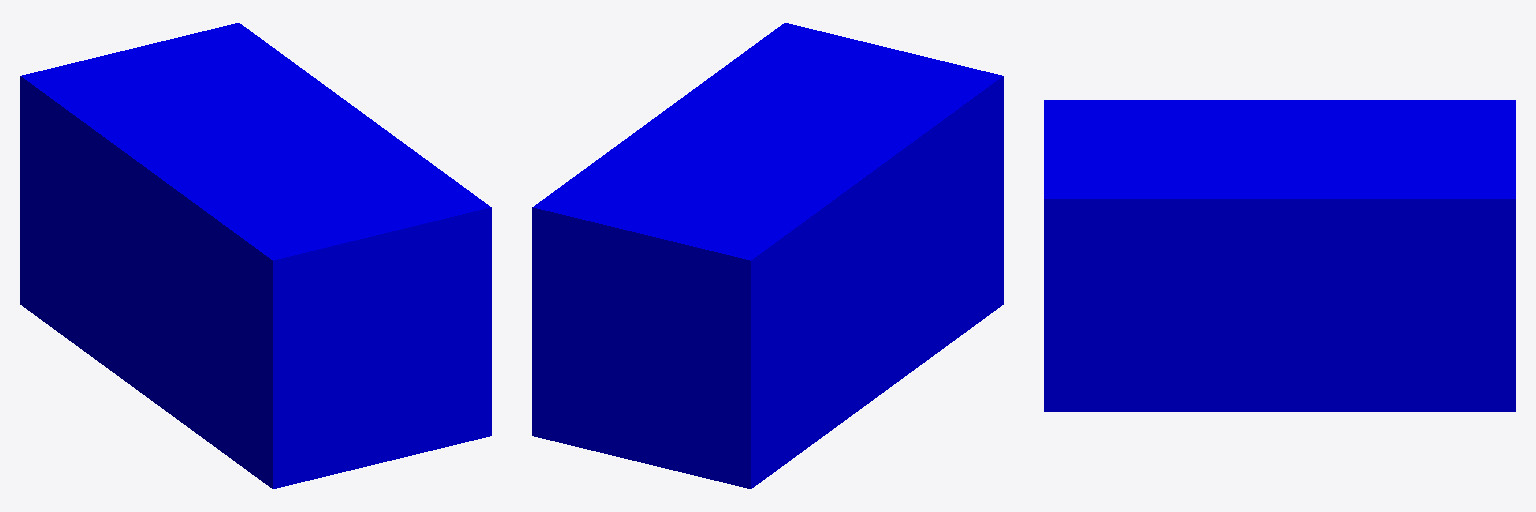
URDF robot description (box):
<?xml version="1.0"?>

<robot name="box">

  <link name="base_link">
  </link>

  <link name="moving_box_link">

    <inertial>
      <origin xyz="0 0 0"/>
      <mass value="1" />
      <inertia ixx="1"  ixy="0"  ixz="0" iyy="1" iyz="0" izz="1" />
    </inertial>

    <visual>
      <origin xyz="0 0 0" />
      <geometry>
        <box size="0.1 0.2 0.1" />
      </geometry>
      <material>
        <color rgba="0 0 1 1" />
      </material>
    </visual>

    <collision>
      <origin xyz="0 0 0" />
      <geometry>
        <box size="0.1 0.2 0.1" />
      </geometry>
    </collision>
  </link>

  <!--
    It seems like Drake doesn't support a standard floating base,
    so we need to emulate the floating base for each body using two
    prismatic joints and one continuous revolute joint, as mentioned
    in Issue #3089 on Drake's GitHub.

    To support these various joints, we need dummy massless bodies to
    serve as intermediates
   -->
  <link name="dummy_1"></link>
  <link name="dummy_2"></link>
  <link name="dummy_3"></link>
  <link name="dummy_4"></link>
  <link name="dummy_5"></link>

  <joint name="x" type="prismatic">
    <parent link="base_link" />
    <child link="dummy_1" />
    <origin xyz="0 0 0" />
    <axis xyz="1 0 0" />
  </joint>
  <joint name="y" type="prismatic">
    <parent link="dummy_1" />
    <child link="dummy_2" />
    <origin xyz="0 0 0" />
    <axis xyz="0 1 0" />
  </joint>
  <joint name="z" type="prismatic">
    <parent link="dummy_2" />
    <child link="dummy_3" />
    <origin xyz="0 0 0" />
    <axis xyz="0 0 1" />
  </joint>
  <joint name="r1" type="revolute">
    <parent link="dummy_3" />
    <child link="dummy_4" />
    <origin xyz="0 0 0" />
    <axis xyz="1 0 0" />
  </joint>
  <joint name="r2" type="revolute">
    <parent link="dummy_4" />
    <child link="dummy_5" />
    <origin xyz="0 0 0" />
    <axis xyz="0 1 0" />
  </joint>
  <joint name="r3" type="revolute">
    <parent link="dummy_5" />
    <child link="moving_box_link" />
    <origin xyz="0 0 0" />
    <axis xyz="0 0 1" />
  </joint>

</robot>

--- What the picture shows (computed from the rendered views, not written in the file) ---
Views: 3 orthographic renders of the robot side by side, from view 1: azimuth 30°, elevation 25°; view 2: azimuth 150°, elevation 25°; view 3: azimuth 270°, elevation 25°.
Model box with 7 links and 6 joints (3 revolute, 3 prismatic), rooted at base_link, posed every joint at zero.
Visible links, largest first — view 1: moving_box_link; view 2: moving_box_link; view 3: moving_box_link.
Link boxes in pixels (left/top/right/bottom): moving_box_link: left=20, top=23, right=491, bottom=488; moving_box_link: left=532, top=23, right=1003, bottom=488; moving_box_link: left=1044, top=100, right=1515, bottom=411.
Bounding box of the posed robot: 0.1 × 0.2 × 0.1 m (x, y, z).
Geometry: primitives only (box / cylinder / sphere), no mesh files.